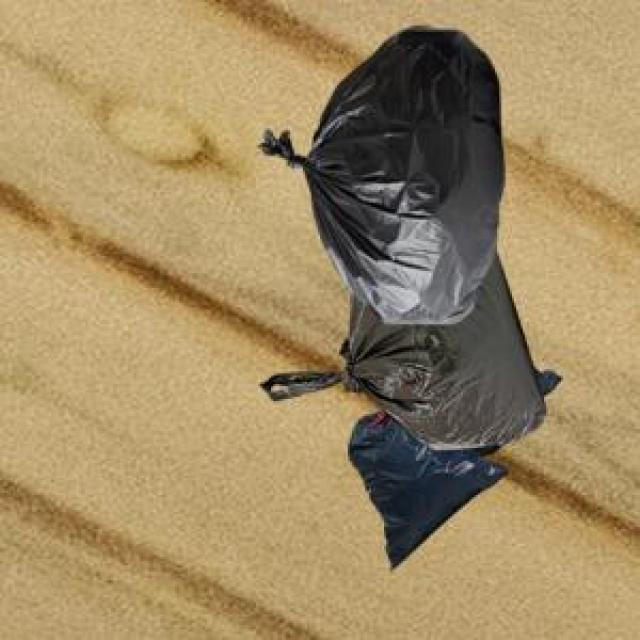Vinyl: (262, 28, 560, 566)
